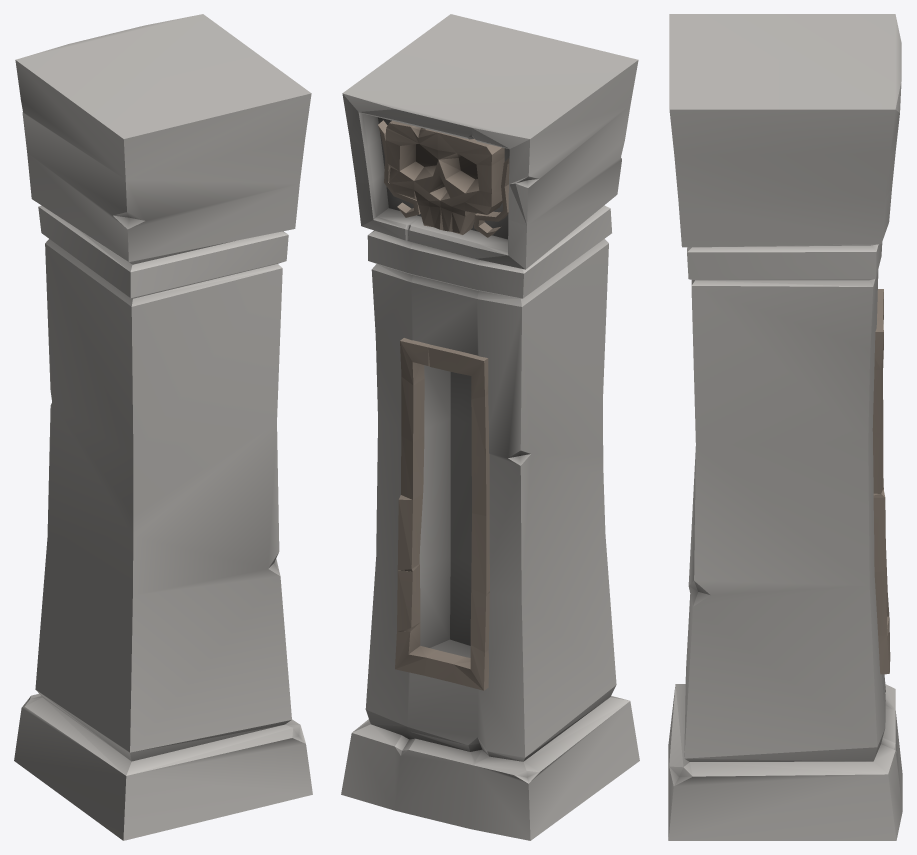
The model's file is obj_columnSkull_A_LOW.FBX.
The picture shows the model from 3 angles, left to right: view 1: azimuth 30°, elevation 25°; view 2: azimuth 150°, elevation 25°; view 3: azimuth 270°, elevation 25°; orthographic projection. The views are drawn at different scales.
Visible parts, largest first — view 1: obj_columnSkull_A_LOW; view 2: obj_columnSkull_A_LOW; view 3: obj_columnSkull_A_LOW.
Boxes of the visible parts, box(x1,y1,x2,y2) form: obj_columnSkull_A_LOW: box(14, 14, 312, 840); obj_columnSkull_A_LOW: box(341, 14, 639, 840); obj_columnSkull_A_LOW: box(668, 14, 902, 840).
Bounding box in the file's own units: 1.7 × 6 × 1.74.
